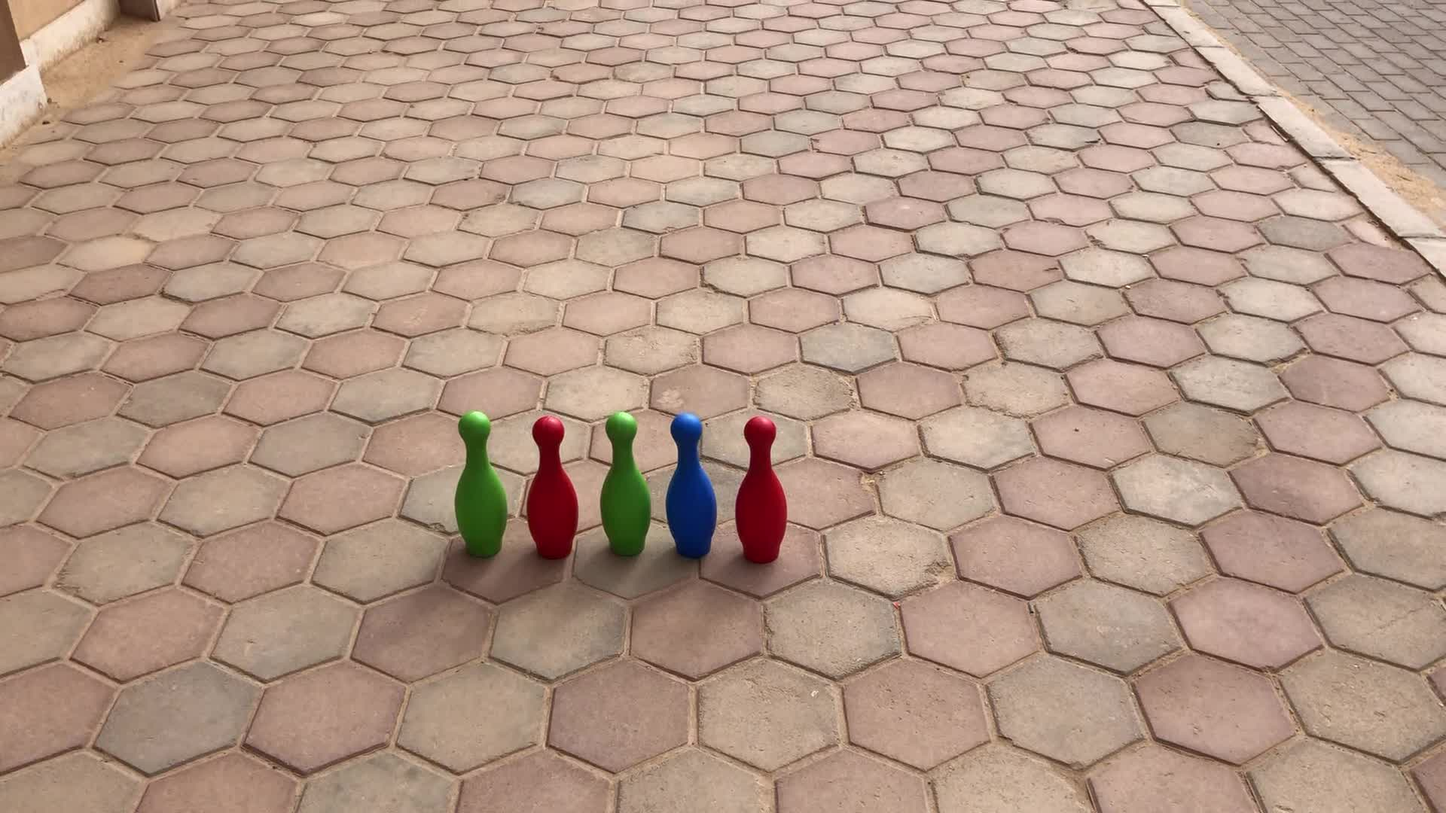bowling-pin: (455, 412, 508, 557), (735, 416, 787, 563), (526, 416, 579, 559), (666, 413, 717, 557), (602, 412, 651, 556)
